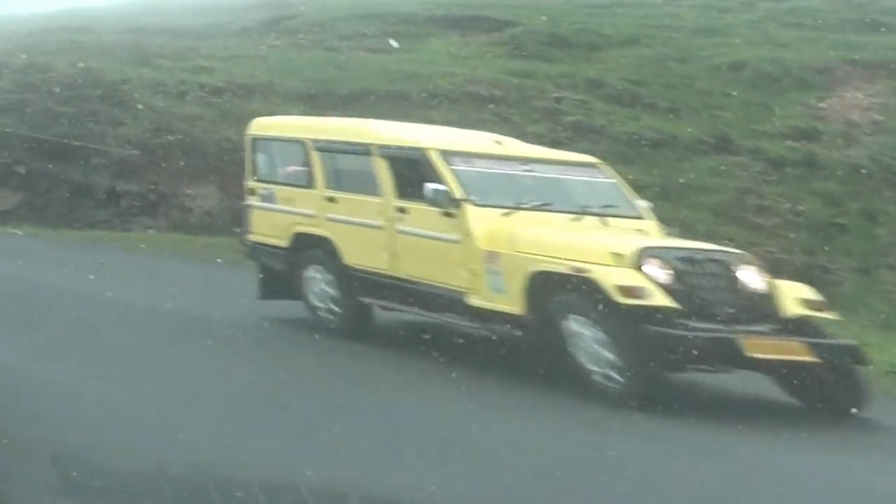car: (240, 112, 874, 415)
